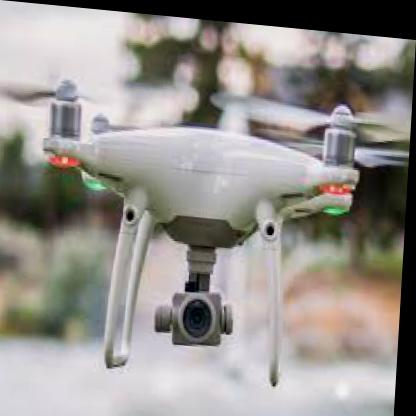UAS: (35, 75, 364, 387)
